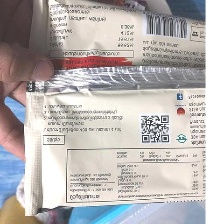snack: (11, 0, 205, 221)
